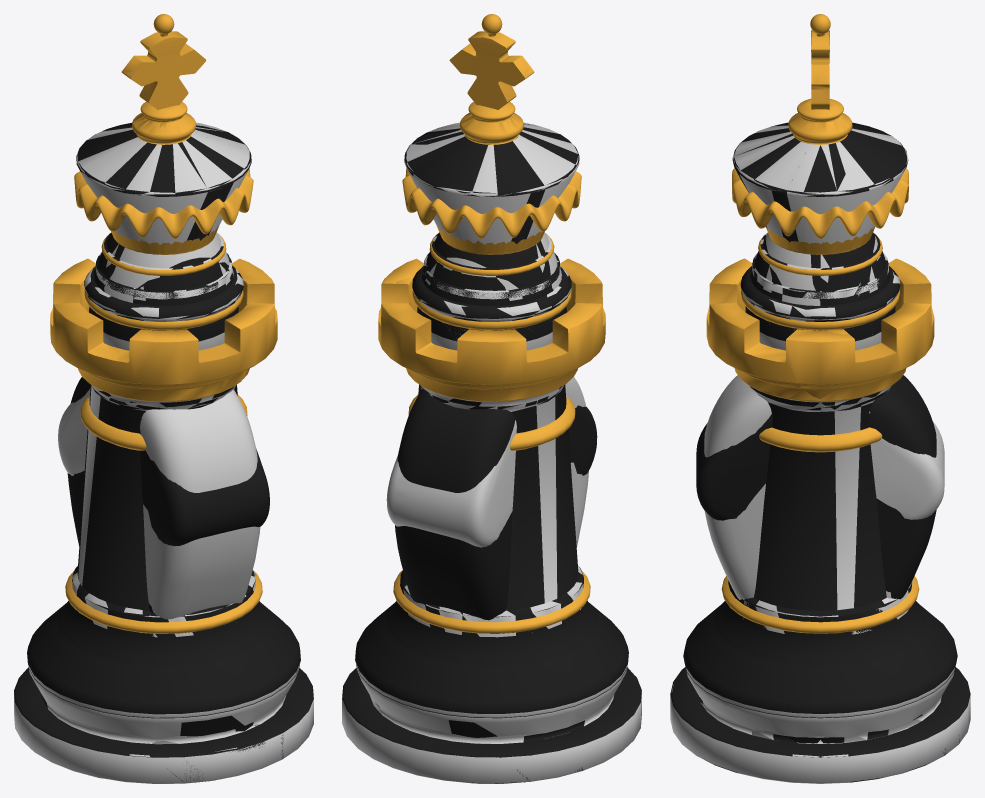
Rendered from pieces.glb.
3 renders of one model, left to right at view 1: azimuth 30°, elevation 25°; view 2: azimuth 150°, elevation 25°; view 3: azimuth 270°, elevation 25°, orthographic.
Parts seen in each view (by area): view 1: b_k_body, w_n_body, w_k_body, b_r_trim, w_q_body, b_r_body, w_r_trim, b_n_body, b_q_body, w_k_trim, b_k_trim, b_q_trim (+5 smaller); view 2: b_k_body, b_n_body, w_q_body, w_k_body, b_r_trim, w_r_trim, b_r_body, w_n_body, b_q_body, w_k_trim, b_b_body, b_q_trim (+5 smaller); view 3: b_k_body, b_r_body, b_r_trim, w_k_body, w_q_body, b_n_body, w_n_body, w_r_trim, b_q_body, w_r_body, b_b_body, b_q_trim (+6 smaller).
Boxes of the visible parts, x1,y1,x2,y2 form: b_k_body: (14, 123, 313, 782); w_n_body: (58, 388, 260, 619); w_k_body: (15, 122, 304, 783); b_r_trim: (50, 258, 277, 630); w_q_body: (14, 265, 313, 783); b_r_body: (77, 385, 237, 633); w_r_trim: (50, 258, 273, 633); b_n_body: (67, 377, 269, 614); b_q_body: (21, 265, 299, 782); w_k_trim: (84, 14, 243, 330); b_k_trim: (84, 14, 243, 330); b_q_trim: (74, 168, 253, 254); b_k_body: (342, 124, 641, 783); b_n_body: (395, 389, 597, 620); w_q_body: (342, 265, 641, 783); w_k_body: (353, 122, 640, 783); b_r_trim: (378, 258, 605, 630); w_r_trim: (379, 259, 605, 633); b_r_body: (418, 384, 578, 633); w_n_body: (386, 377, 588, 547); b_q_body: (356, 266, 635, 781); w_k_trim: (412, 14, 571, 330); b_b_body: (417, 233, 566, 341); b_q_trim: (402, 168, 581, 254); b_k_body: (670, 122, 970, 772); b_r_body: (750, 385, 892, 633); b_r_trim: (706, 258, 934, 630); w_k_body: (675, 125, 965, 783); w_q_body: (670, 272, 970, 783); b_n_body: (696, 375, 936, 599); w_n_body: (704, 375, 944, 599); w_r_trim: (706, 258, 934, 633); b_q_body: (671, 266, 969, 782); w_r_body: (748, 385, 891, 633); b_b_body: (745, 233, 895, 341); b_q_trim: (732, 168, 908, 254).
Size of the model in its own units: 0.9344 by 2.43 by 0.9344.
